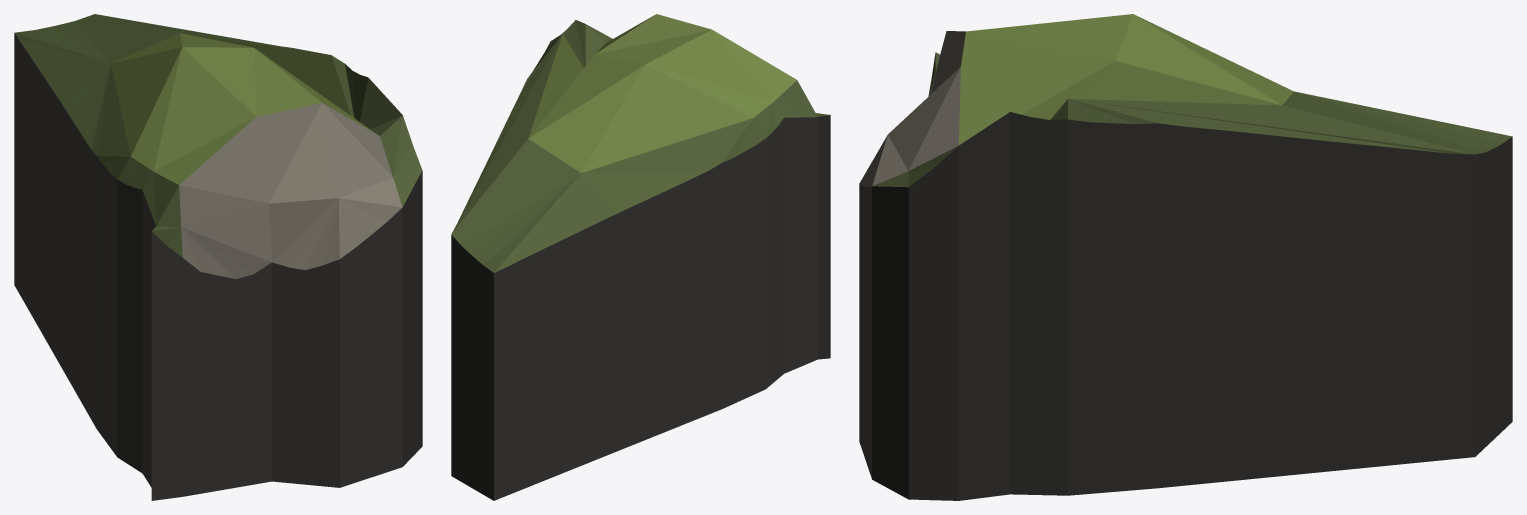
The model's file is cliff_sections_10c_prototype.glb.
3 renders of one model, left to right at view 1: azimuth 30°, elevation 25°; view 2: azimuth 150°, elevation 25°; view 3: azimuth 270°, elevation 25°, orthographic. The views are drawn at different scales.
Parts seen in each view (by area): view 1: Front columns study; view 2: Front columns study; view 3: Front columns study.
Boxes of the visible parts, bbox=[...] form: Front columns study: bbox=[14, 14, 422, 500]; Front columns study: bbox=[451, 14, 830, 500]; Front columns study: bbox=[859, 14, 1512, 500].
Size of the model in its own units: 53.05 by 70 by 102.
